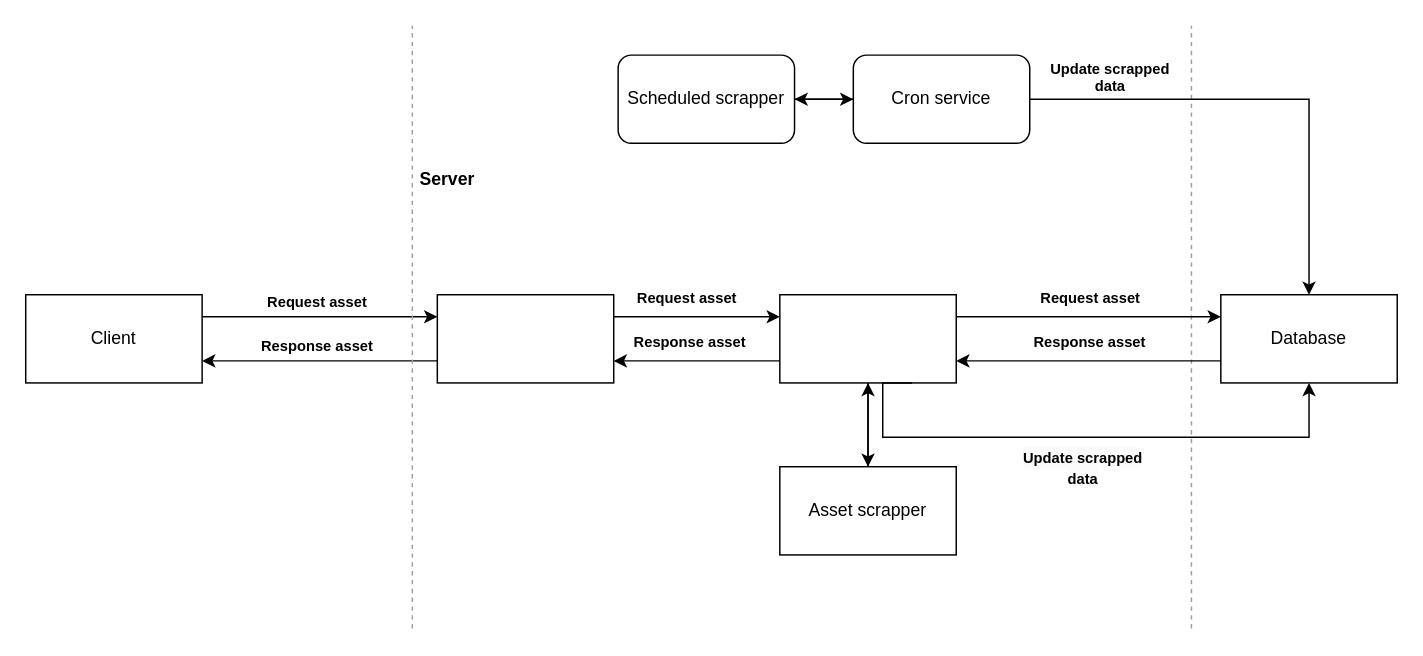
The diagram is 1423 pixels wide and 656 high, and some of its shapes have lost their labels. Here are the shapes that lost their labels. From the top down, the centre of each, then its label:
At point (525, 338): "Controller".
At point (867, 338): "Service".
